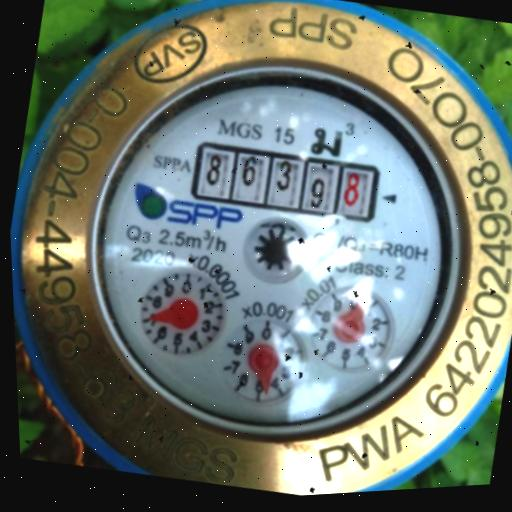3: (268, 162, 298, 209)
6: (234, 157, 263, 202)
8: (199, 152, 229, 197), (340, 172, 370, 216)
9: (305, 168, 333, 212)
border_water_meter_number: (188, 131, 385, 234)
